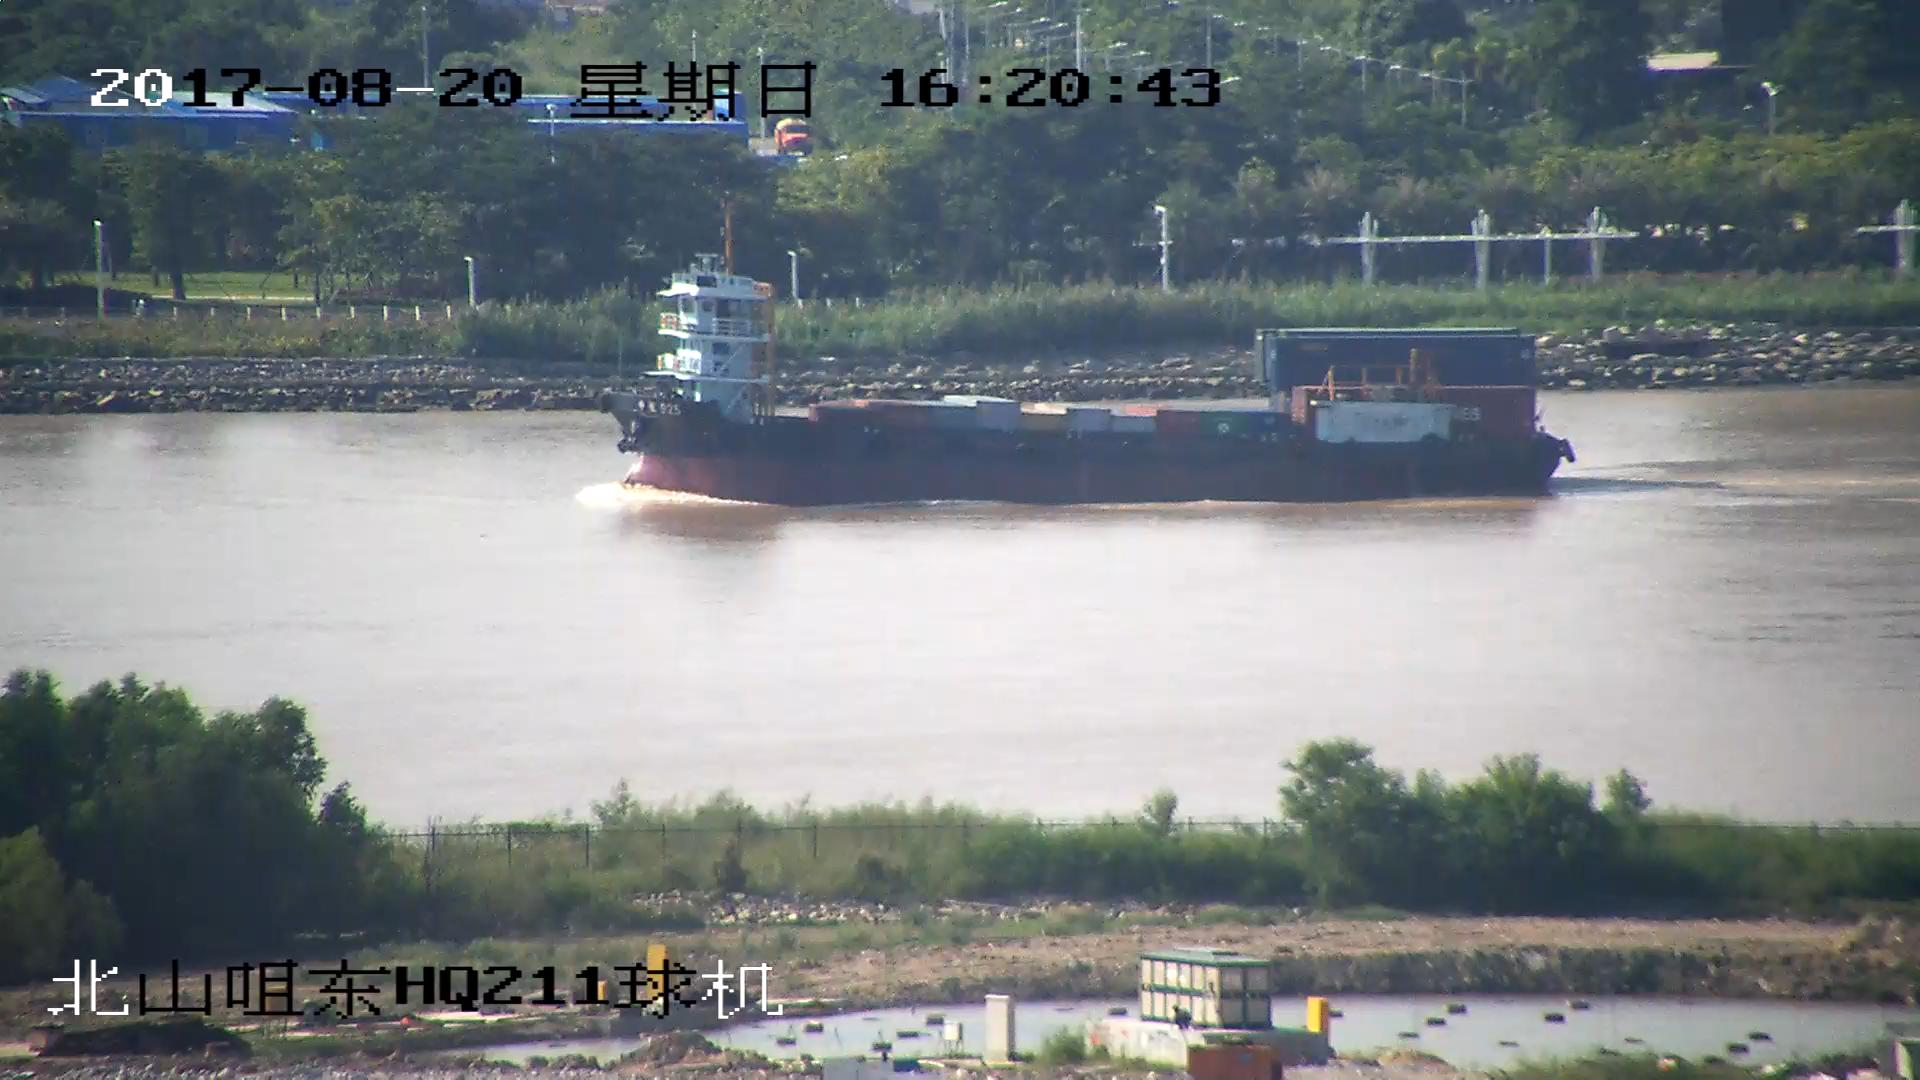container ship: (607, 201, 1574, 503)
